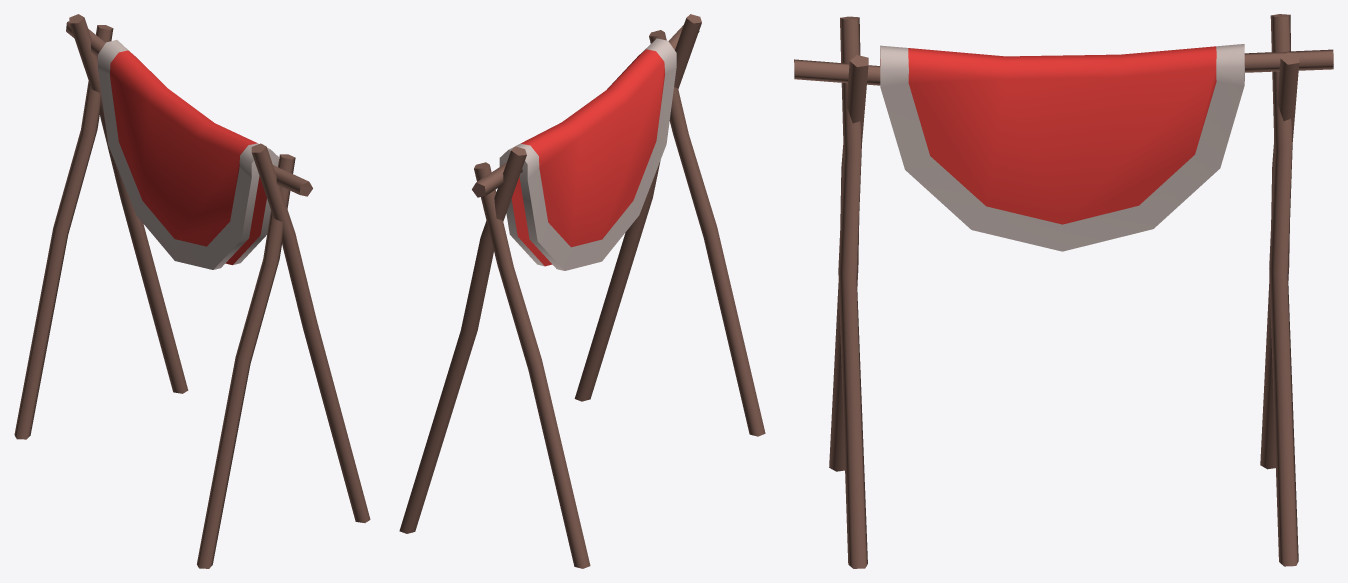
Rendered from holder_001.glb.
3 renders of one model, left to right at view 1: azimuth 30°, elevation 25°; view 2: azimuth 150°, elevation 25°; view 3: azimuth 270°, elevation 25°, orthographic. The views are drawn at different scales.
Parts seen in each view (by area): view 1: holder_001; view 2: holder_001; view 3: holder_001.
Part boxes in pixels (<box>): holder_001: <box>14,14,370,568</box>; holder_001: <box>399,14,765,568</box>; holder_001: <box>794,14,1333,568</box>.
Size of the model in its own units: 0.9567 by 2.01 by 2.02.
1 material, 1 textured.
